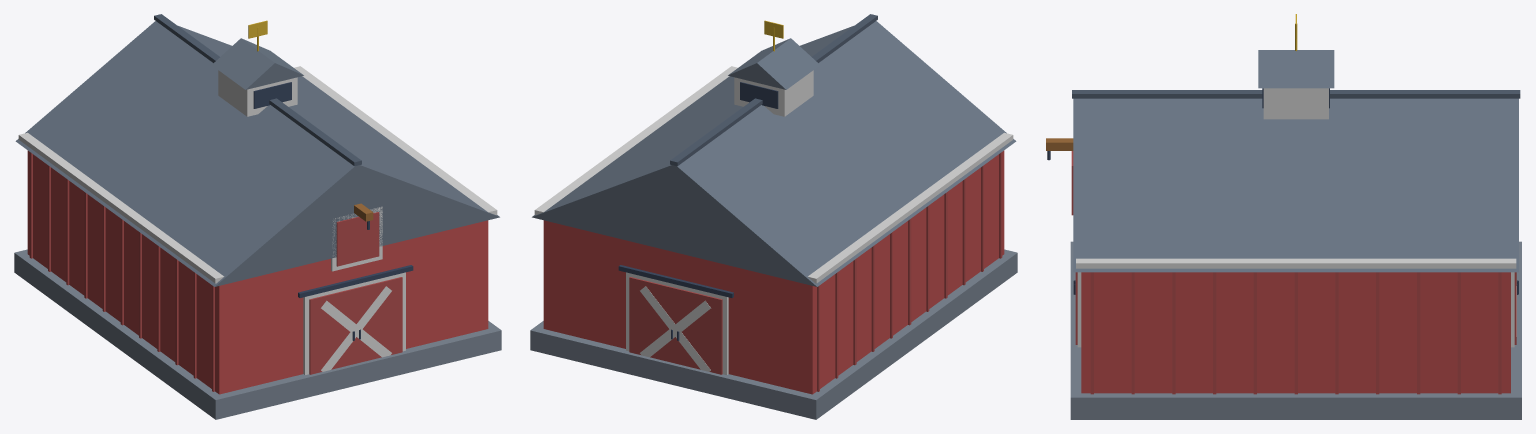
The model's file is district-barn.glb.
3 renders of one model, left to right at view 1: azimuth 30°, elevation 25°; view 2: azimuth 150°, elevation 25°; view 3: azimuth 270°, elevation 25°, orthographic. The views are drawn at different scales.
Visible parts, largest first — view 1: Root; view 2: Root; view 3: Root.
Boxes of the visible parts, x1,y1,x2,y2 form: Root: (14, 14, 501, 419); Root: (530, 14, 1017, 419); Root: (1046, 14, 1521, 419).
Bounding box in the file's own units: 13.6 × 13.1 × 17.5.
